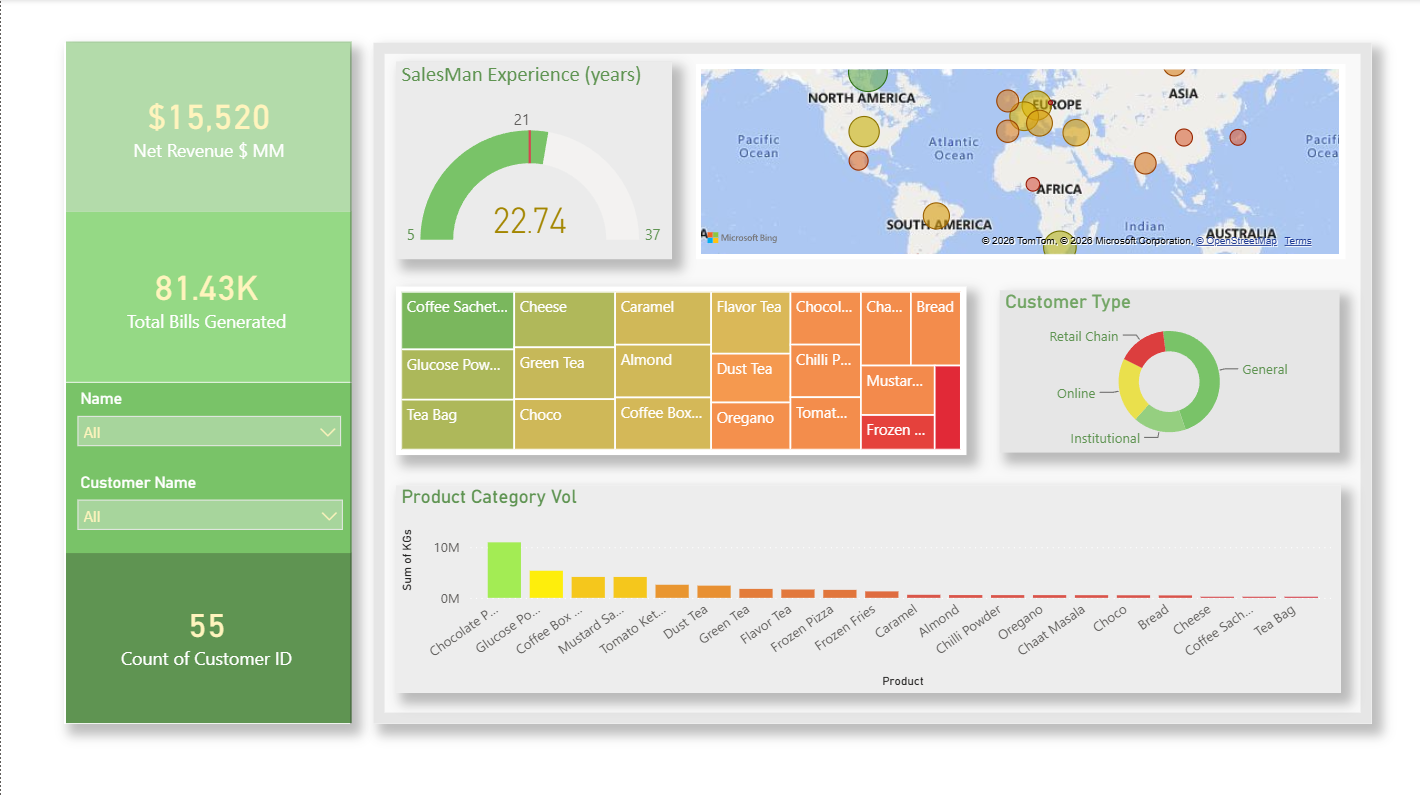

This screenshot's page, from the dashboard's own definition file:
{"tool":"powerbi","page":{"name":"Page 2","canvas":[1280,720],"ordinal":1},"visuals":[{"type":"gauge","title":"SalesMan Experience (years)","fields":{"Y":["Avg(Sales Person.Experience)"],"MinValue":["Min(Sales Person.Experience)"],"MaxValue":["Max(Sales Person.Experience)"],"TargetValue":["Median(Sales Person.Experience)"]},"box":[356,56,248.8,178.2],"z":0,"group":"g1"},{"type":"shape","box":[58.5,192,257.8,153.6],"z":0},{"type":"shape","box":[58.5,38.4,257.8,153.6],"z":1000},{"type":"treemap","fields":{"Group":["Product.Product"],"Values":["CountNonNull(Sales.Bill No.)"]},"box":[356,258.4,514.5,152.2],"z":1000,"group":"g1"},{"type":"map","fields":{"Category":["Sales.city"],"Size":["Sum(Sales.NR)"]},"box":[626.8,58.1,585.2,176.3],"z":2000,"group":"g1"},{"type":"shape","box":[58.5,499.2,257.8,153.6],"z":2000},{"type":"donutChart","title":"Customer Type","fields":{"Series":["Customer Grade.Customer Type"],"Y":["CountNonNull(Sales.Bill No.)"]},"box":[900,262,306,146],"z":3000,"group":"g1"},{"type":"shape","box":[58.5,345.6,257.8,153.6],"z":3000},{"type":"shape","box":[56,40,258,614],"z":4000},{"type":"columnChart","title":"Product Category Vol","fields":{"Category":["Product.Product"],"Y":["Sum(Sales.KGs)"]},"box":[356,438.5,851.8,187.5],"z":4000,"group":"g1"},{"type":"cardVisual","fields":{"Data":["CountNonNull(Sales.Bill No.)"]},"box":[56,194,258,156],"z":5000},{"type":"cardVisual","fields":{"Data":["CountNonNull(Customer.Customer ID)"]},"box":[56,498,258,156],"z":6000},{"type":"cardVisual","fields":{"Data":["Area.Net Revenue $ MM"]},"box":[58,40,260,156],"z":7000},{"type":"slicer","fields":{"Values":["Sales Person.Name"]},"box":[58.2,346.8,258.3,60.5],"z":8000},{"type":"slicer","fields":{"Values":["Customer.Customer Name"]},"box":[58.5,422.4,259.7,60.3],"z":9000},{"type":"shape","box":[336,40,900,614],"z":11000},{"type":"group","id":"g1","title":"Group 1","box":[356,56,856,570],"z":11500}]}

Visuals, with their boxes in screenshot pixels (x1, y1, x2, y2), scaled from the page's 1280x720 canvas onto the 1420x796 screenshot:
"SalesMan Experience (years)" gauge: locate(395, 62, 671, 259)
shape: locate(65, 212, 351, 382)
shape: locate(65, 42, 351, 212)
treemap - Product.Product x CountNonNull(Sales.Bill No.): locate(395, 286, 966, 454)
map - Sales.city x Sum(Sales.NR): locate(695, 64, 1345, 259)
shape: locate(65, 552, 351, 722)
"Customer Type" donutChart: locate(998, 290, 1338, 451)
shape: locate(65, 382, 351, 552)
shape: locate(62, 44, 348, 723)
"Product Category Vol" columnChart: locate(395, 485, 1340, 692)
cardVisual - CountNonNull(Sales.Bill No.): locate(62, 214, 348, 387)
cardVisual - CountNonNull(Customer.Customer ID): locate(62, 551, 348, 723)
cardVisual - Area.Net Revenue $ MM: locate(64, 44, 353, 217)
slicer - Sales Person.Name: locate(65, 383, 351, 450)
slicer - Customer.Customer Name: locate(65, 467, 353, 534)
shape: locate(373, 44, 1371, 723)
"Group 1" group: locate(395, 62, 1345, 692)
